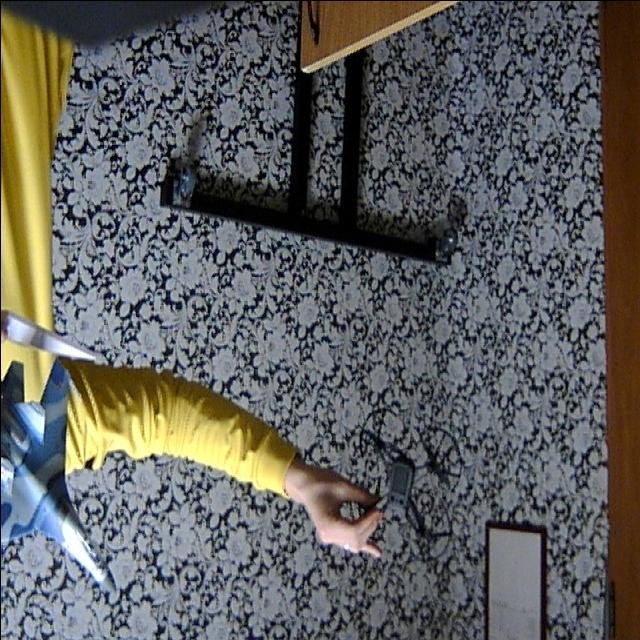drone: (343, 404, 464, 582)
